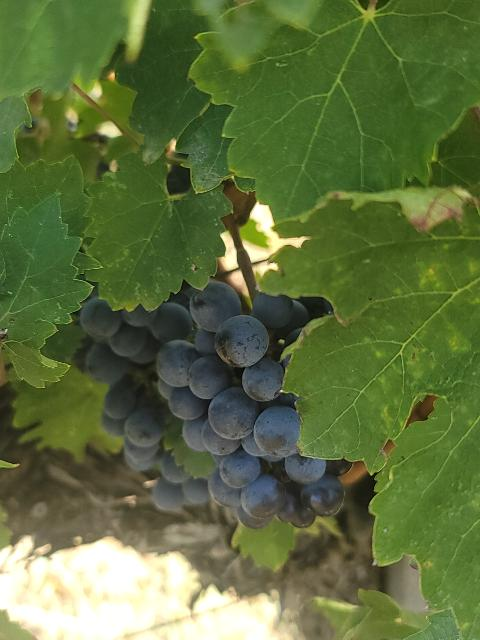grapes: (156, 281, 350, 530), (79, 298, 210, 512)
